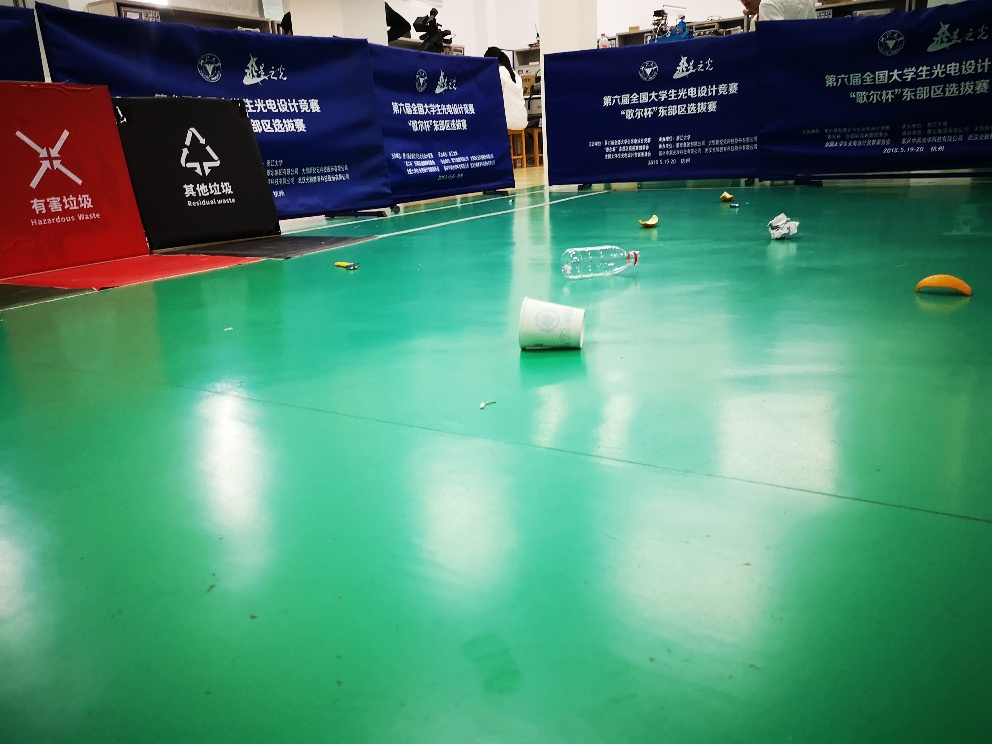battery: (722, 199, 747, 212)
bottle: (561, 241, 642, 281)
orangepeel: (911, 269, 975, 301), (637, 210, 661, 230), (714, 188, 739, 204)
papercup: (513, 294, 591, 357)
spitball: (765, 211, 802, 242)
